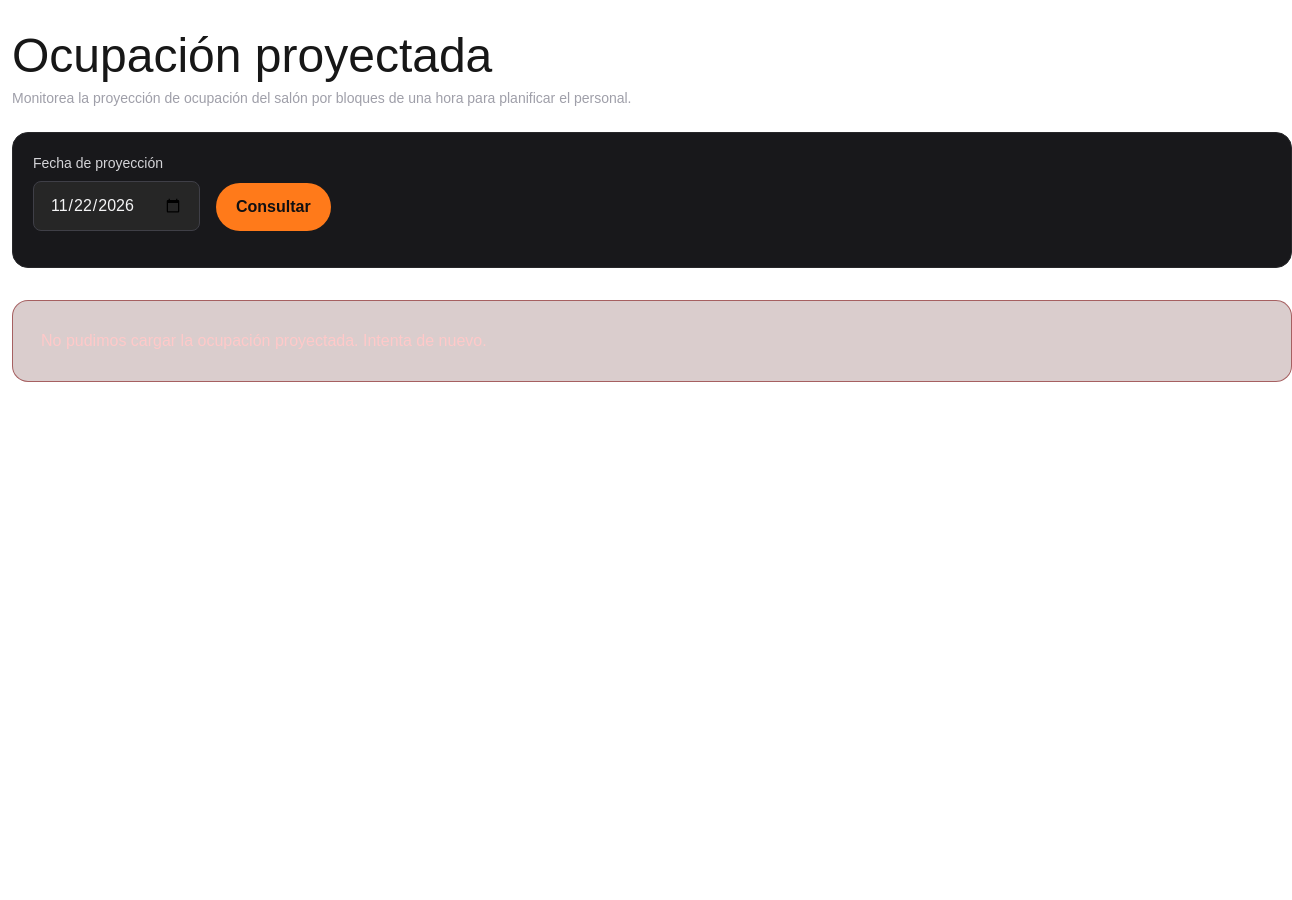
Test: OcupacionView (H13) › permite reintentar la misma fecha después de un error
This screenshot has width=1292, height=900.
Expected: the message shows "No pudimos cargar la ocupación proyectada.", left=41, top=332, right=487, bottom=349
Click the button "Consultar". click: {"x": 273, "y": 207}
box: left=216, top=183, right=331, bottom=231
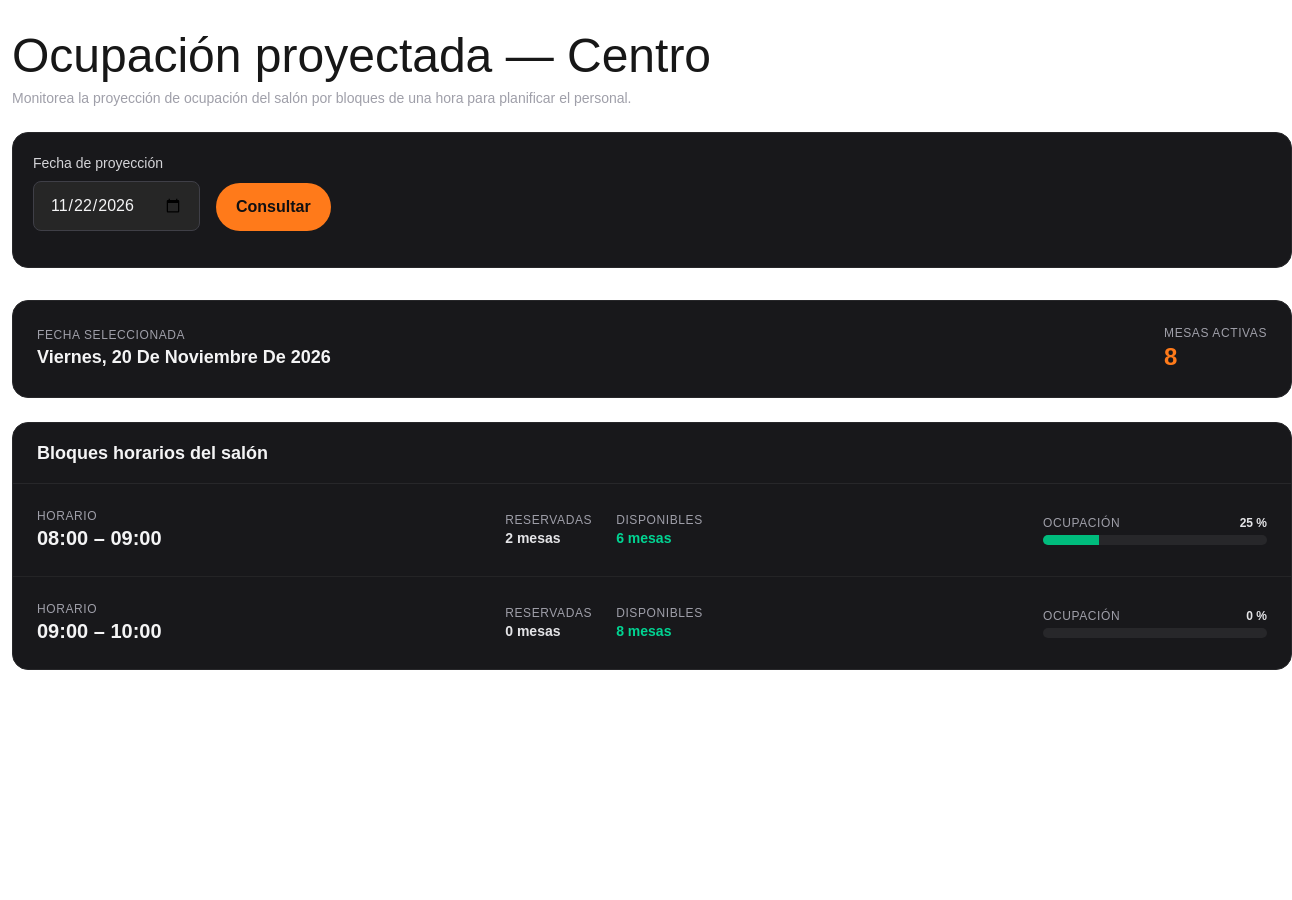
Result: the text "25 %" is shown at left=1240, top=515, right=1267, bottom=531
